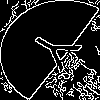Y: (25, 25, 92, 79)
